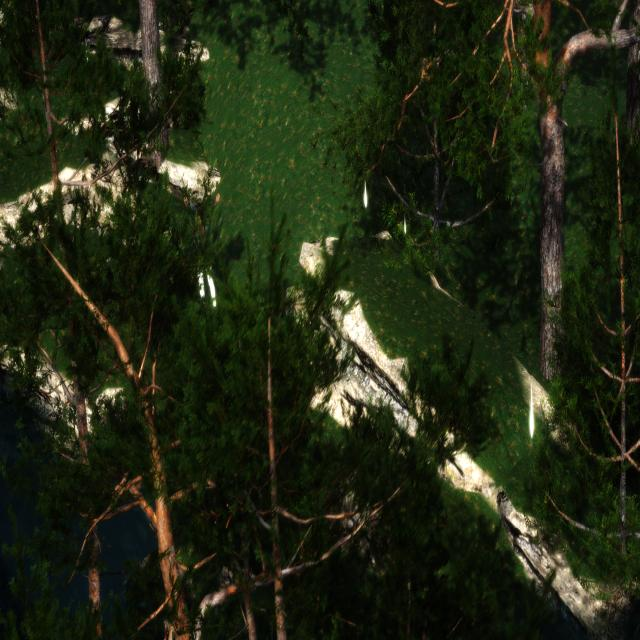Human: (190, 205, 220, 326)
